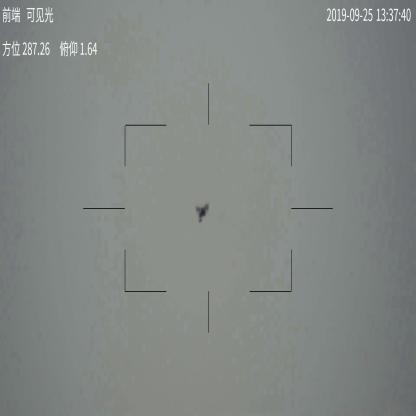uav: (194, 200, 210, 225)
